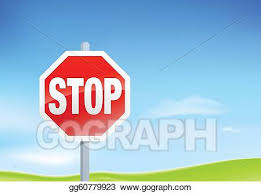SS: (36, 50, 132, 143)
